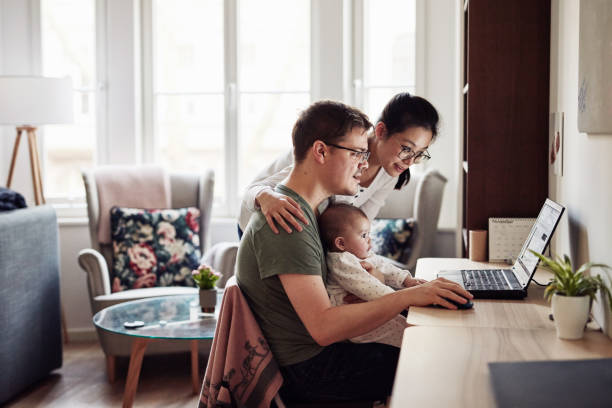without mask: (297, 109, 369, 197), (367, 90, 439, 178), (320, 198, 380, 259)
